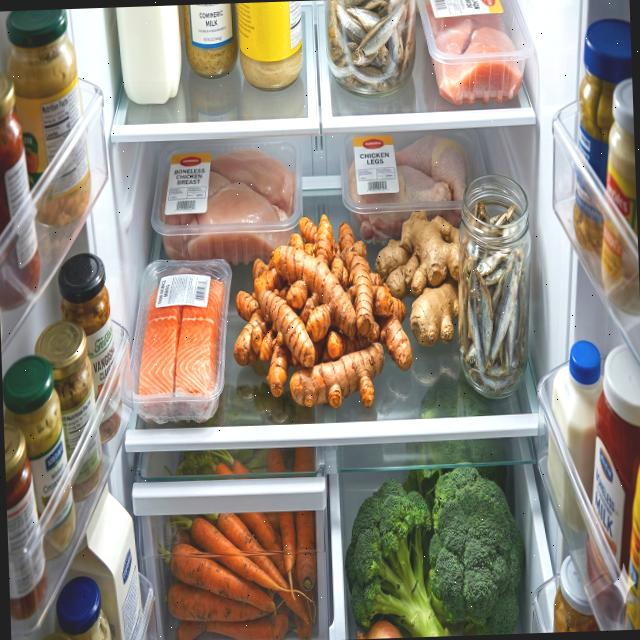anchovies: (455, 202, 532, 396)
brocolli: (340, 437, 525, 639)
carrot: (161, 447, 320, 640)
chicken: (158, 146, 300, 270), (347, 132, 472, 245), (426, 0, 523, 106)
fish: (134, 274, 228, 414), (326, 0, 419, 96)
ginger: (373, 208, 464, 349)
turmeric: (228, 210, 414, 414)
